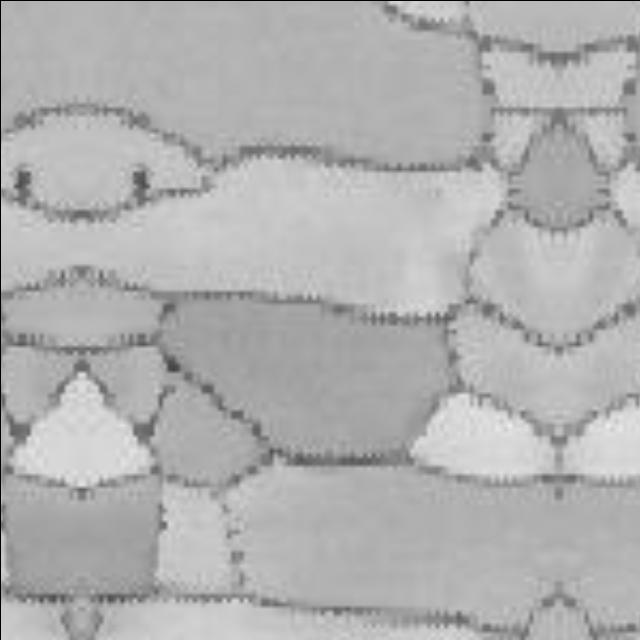good_void: (123, 164, 155, 211), (7, 164, 39, 211)
